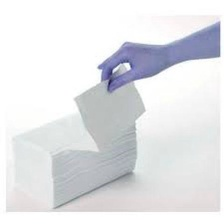tissue: (5, 58, 151, 211)
